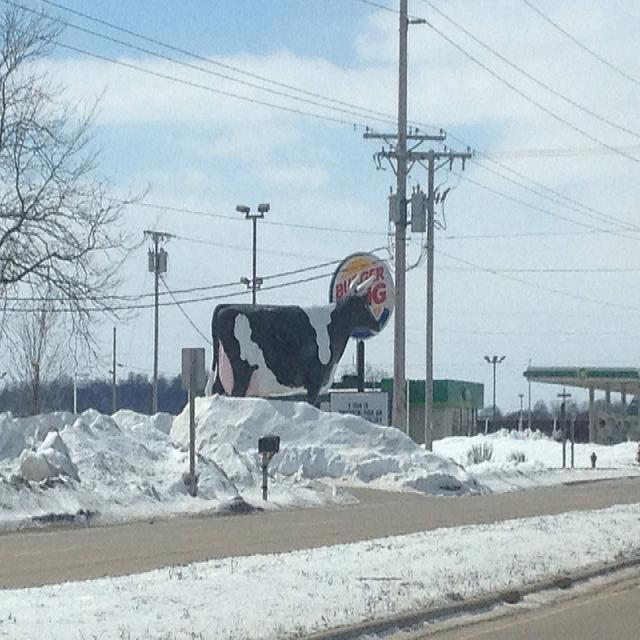fire_hydrant: (589, 451, 597, 468)
